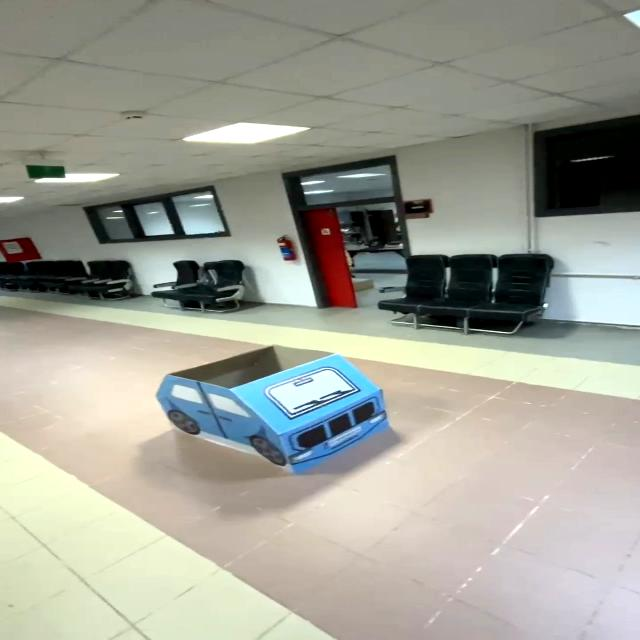blue_car: (132, 331, 411, 495)
